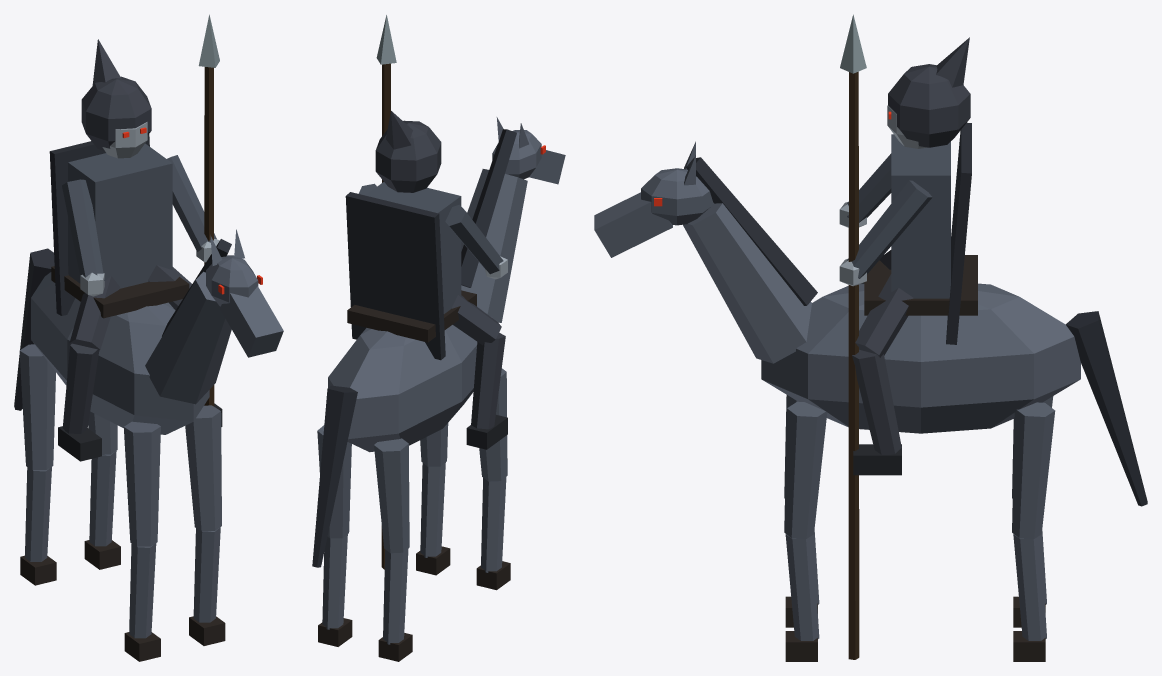
Rendered from wilder_jaeger.glb.
3 views of the same model, side by side, from view 1: azimuth 30°, elevation 25°; view 2: azimuth 150°, elevation 25°; view 3: azimuth 270°, elevation 25° (orthographic). The views are drawn at different scales.
Size of the model in its own units: 0.6639 by 2.67 by 2.04.
1 material, 1 textured.
